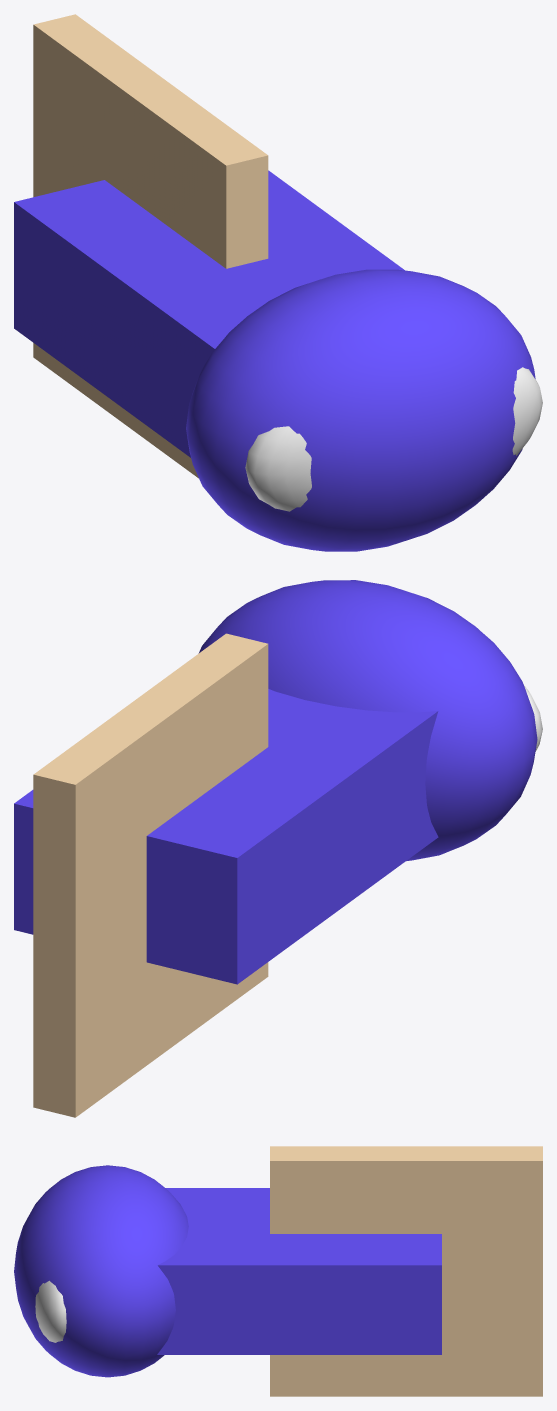
File: Fish_BigBoy.fbx
3 renders of one model, top to bottom at view 1: azimuth 30°, elevation 25°; view 2: azimuth 150°, elevation 25°; view 3: azimuth 270°, elevation 25°, orthographic. The views are drawn at different scales.
Parts seen in each view (by area): view 1: Sphere, Cube__1_, Cube__2_, Sphere_1; view 2: Cube__2_, Cube__1_, Sphere; view 3: Cube__2_, Cube__1_, Sphere, Sphere_1.
Part boxes in pixels (x1,y1,x2,y2): Sphere: (186, 269, 535, 551); Cube__1_: (14, 170, 404, 457); Cube__2_: (33, 14, 268, 478); Sphere_1: (245, 367, 542, 511); Cube__2_: (33, 633, 268, 1117); Cube__1_: (14, 689, 438, 984); Sphere: (198, 580, 537, 861); Cube__2_: (270, 1146, 542, 1396); Cube__1_: (157, 1188, 441, 1354); Sphere: (14, 1165, 188, 1377); Sphere_1: (35, 1280, 66, 1342).
Bounding box in the file's own units: 117 × 114 × 232.
